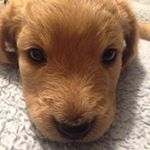puppy: (1, 1, 142, 148)
